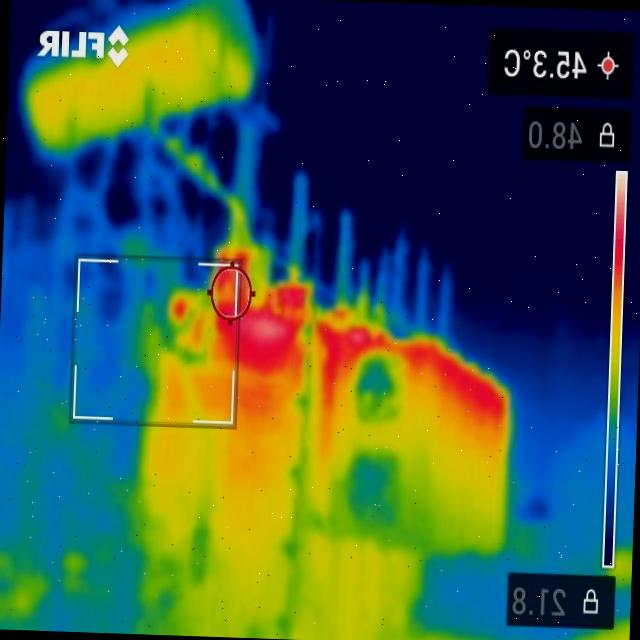loose_joint_red: (328, 293, 350, 324)
loose_joint_yellow: (354, 280, 373, 318), (371, 299, 389, 329)
point_overload_yellow: (162, 135, 223, 199), (225, 195, 247, 245)
